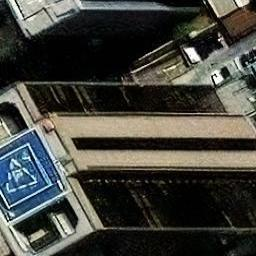heliponto: (0, 145, 52, 206)
